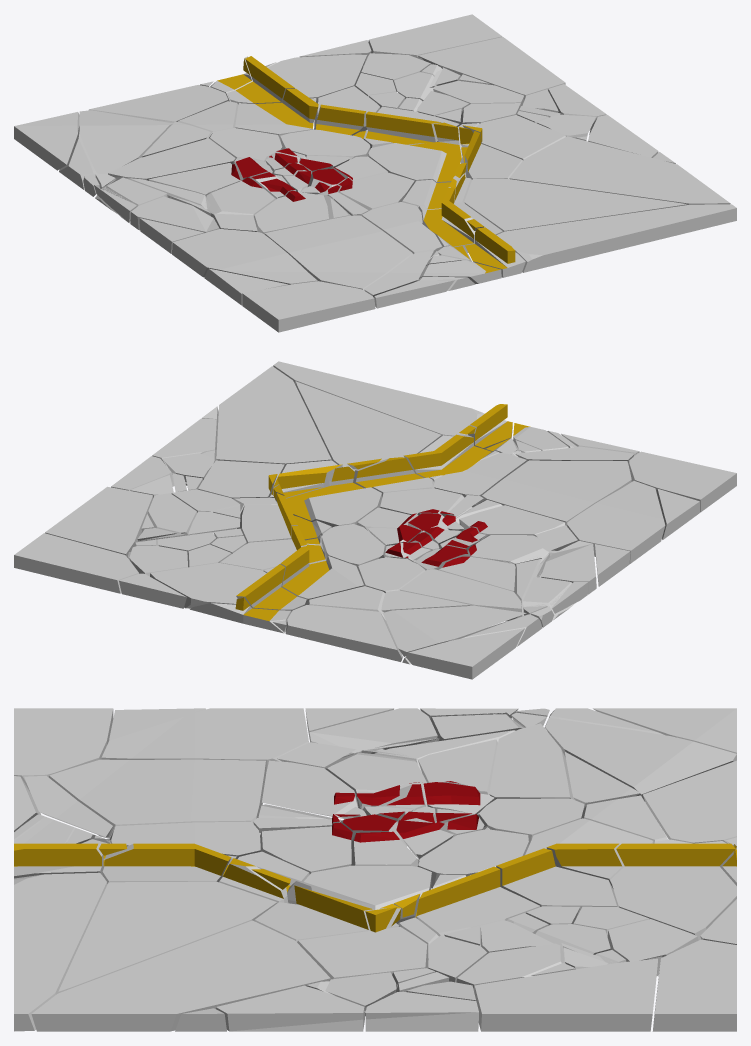
File: DoorCracked2.fbx
3 renders of one model, top to bottom at view 1: azimuth 30°, elevation 25°; view 2: azimuth 150°, elevation 25°; view 3: azimuth 270°, elevation 25°, orthographic. The views are drawn at different scales.
Parts seen in each view (by area): view 1: Door_Cracked; view 2: Door_Cracked; view 3: Door_Cracked.
Part boxes in pixels (x1,y1,x2,y2): Door_Cracked: (14,14,736,332); Door_Cracked: (14,361,736,679); Door_Cracked: (14,708,736,1031).
Size of the model in its own units: 60 by 3.2 by 60.
